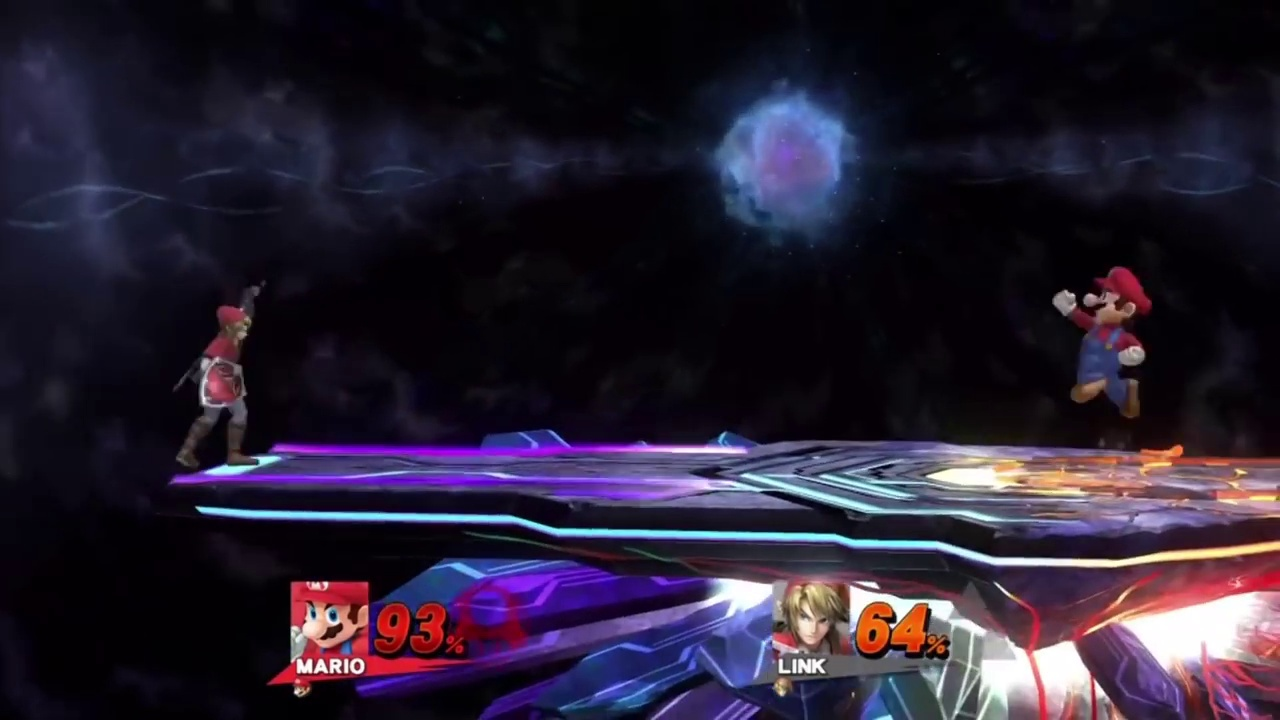Mario: (1048, 264, 1154, 417)
